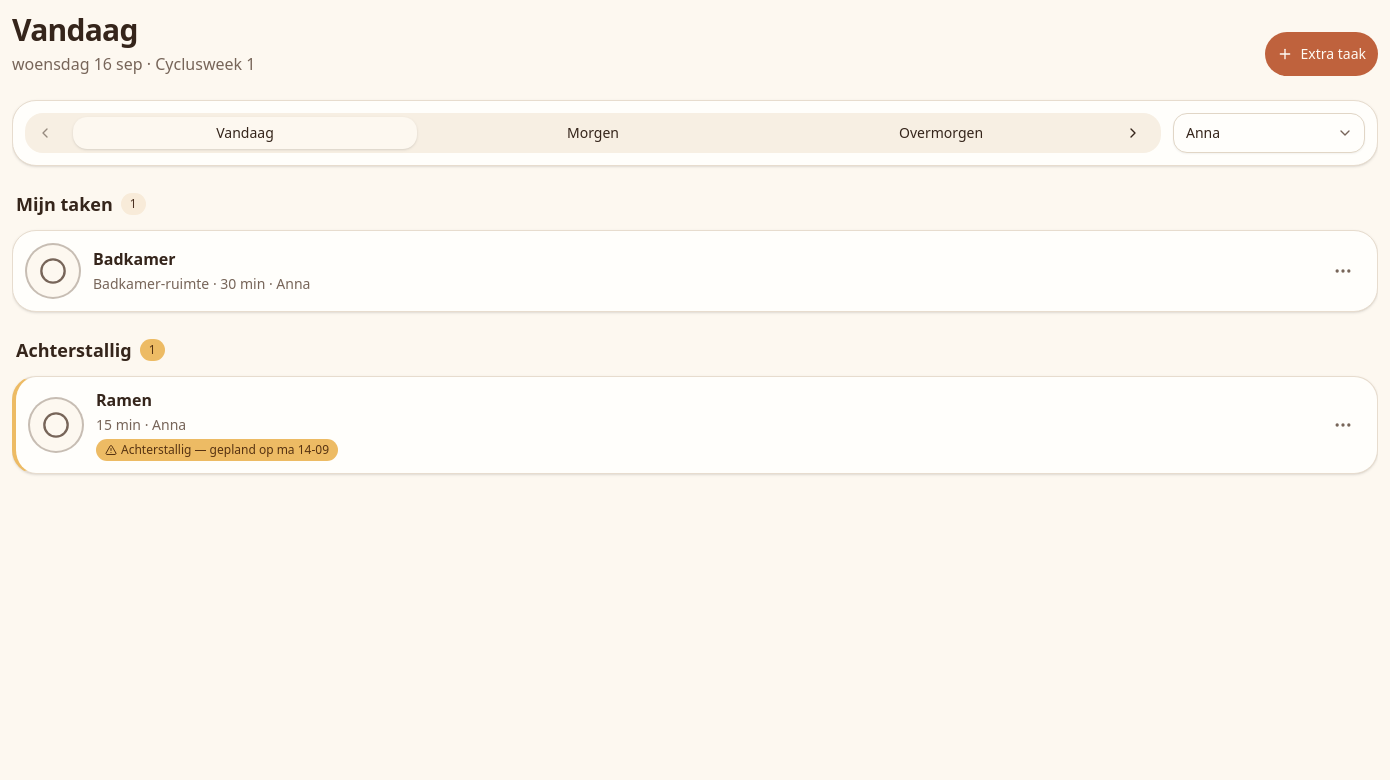
Test: TodayPage › checks off with one tap, and undo restores the previous status
The width and height of the screenshot is (1390, 780).
What coordinates should you click on to do the following:
click the button named "Afvinken: Badkamer"
I would click on:
 (53, 271)
Its box is 25,243 -> 81,299.
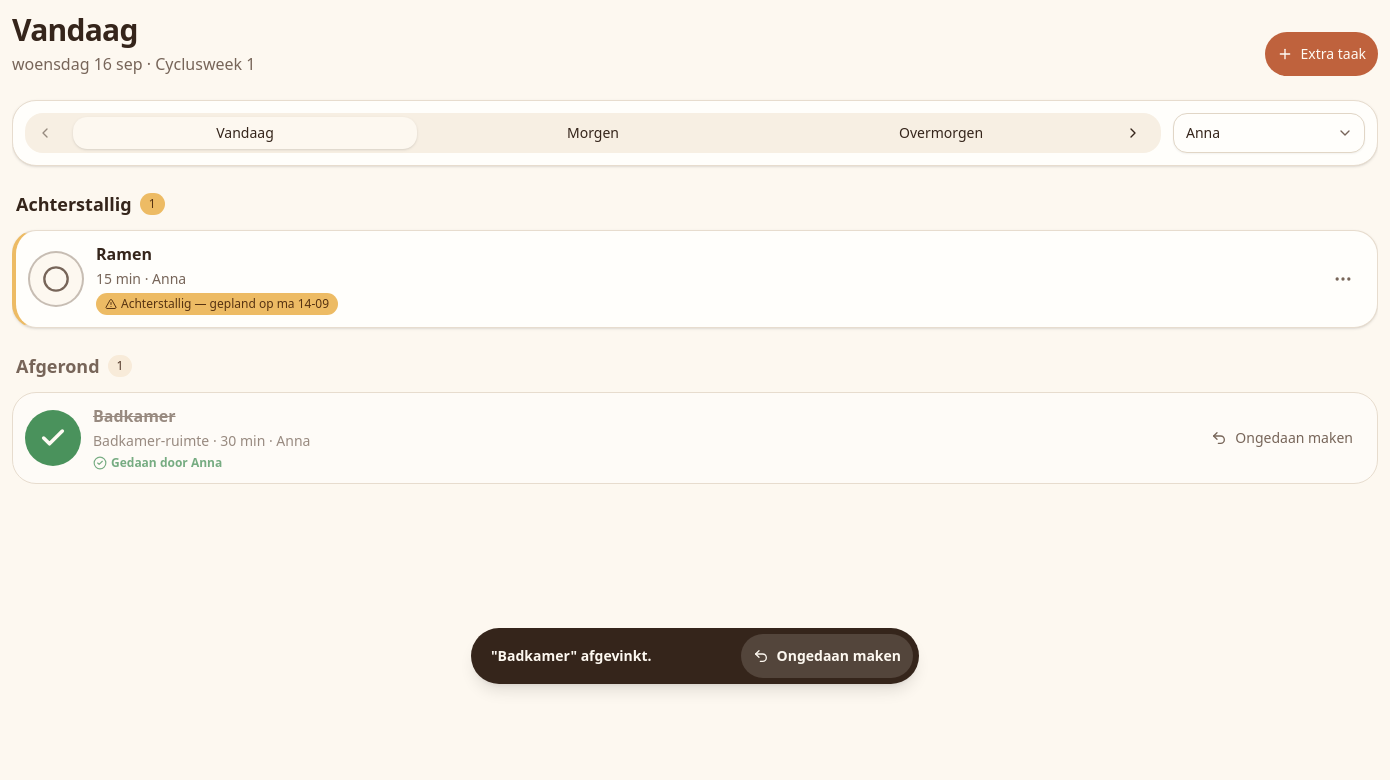
Expected: the text "Badkamer" is shown, 93,405 -> 176,427
Expected: the message shows "\"Badkamer\" afgevinkt.", 491,646 -> 652,665
What coordinates should you click on to do the following:
click the button "Ongedaan maken" next to "\"Badkamer\" afgevinkt."
I would click on:
 (827, 656)
Its box is 740,634 -> 913,678.
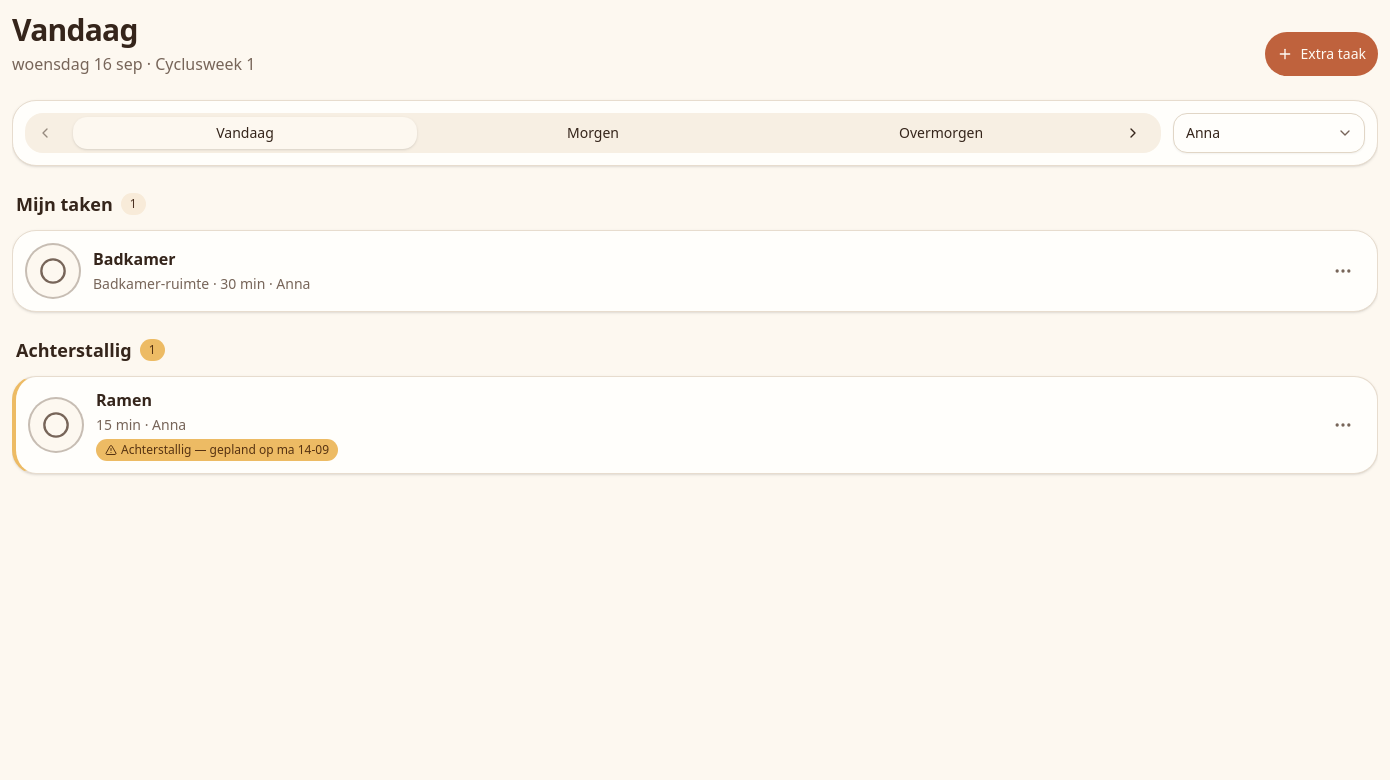
Expected: the text "Badkamer" is shown, 93,248 -> 176,270
Expected: the heading "Afgerond" is gone
